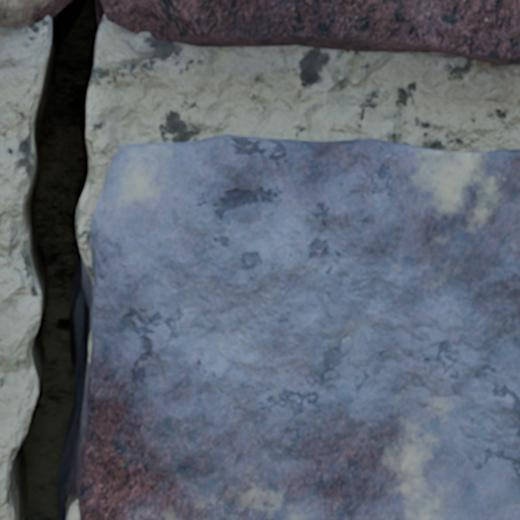brick: (79, 135, 519, 519)
broken_brick: (106, 0, 519, 63), (0, 0, 44, 27)
crack: (0, 0, 118, 519)
